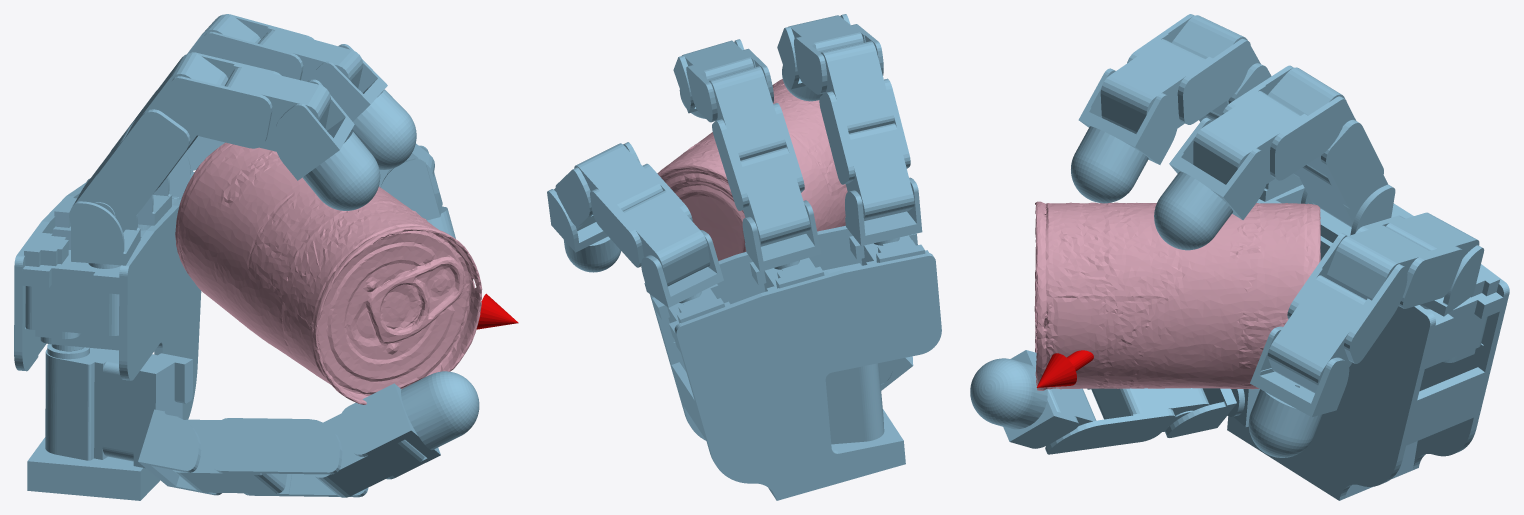
The picture shows the model from 3 angles, left to right: view 1: azimuth 30°, elevation 25°; view 2: azimuth 150°, elevation 25°; view 3: azimuth 270°, elevation 25°; orthographic projection. The views are drawn at different scales.
Visible parts, largest first — view 1: world, tomato_soup_can.stl; view 2: world, tomato_soup_can.stl; view 3: world, tomato_soup_can.stl.
Part boxes in pixels (x1,y1,x2,y2): world: (14,14,518,500); tomato_soup_can.stl: (175,142,482,404); world: (547,14,941,500); tomato_soup_can.stl: (657,79,847,260); world: (970,14,1509,500); tomato_soup_can.stl: (1034,201,1320,390).
Size of the model in its own units: 0.1801 by 0.1777 by 0.1922.
